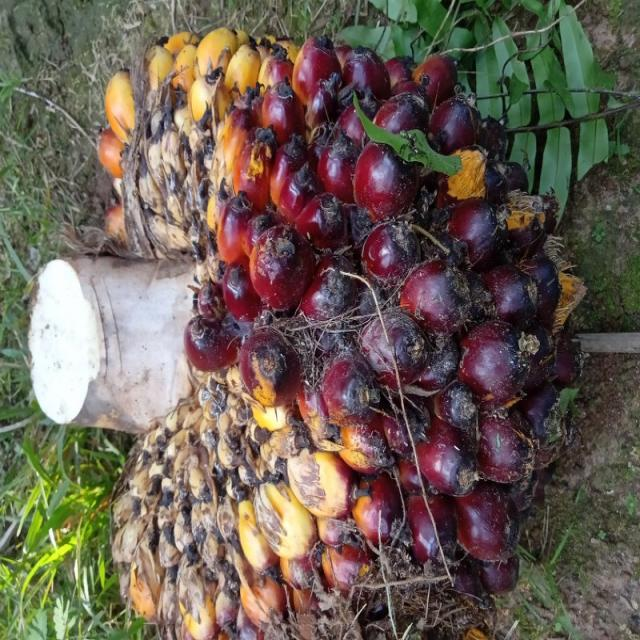fraksi 1: (53, 21, 623, 640)
